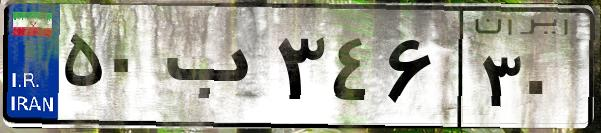0: (525, 38, 570, 115), (110, 28, 158, 98)
3: (270, 28, 330, 110), (475, 38, 525, 113)
4: (330, 28, 385, 110)
5: (57, 26, 110, 100)
6: (385, 28, 445, 110)
ب: (158, 20, 270, 120)
